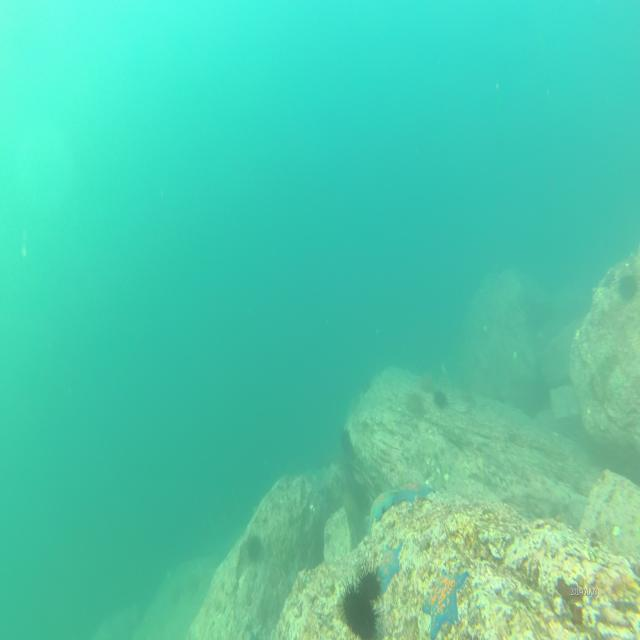echinus: (340, 574, 378, 640), (354, 562, 382, 601), (405, 387, 425, 426), (617, 272, 637, 304), (246, 533, 264, 567), (434, 387, 450, 415), (358, 369, 373, 396)
starfish: (419, 564, 469, 640), (365, 479, 396, 529), (374, 543, 404, 592), (396, 478, 438, 508)
